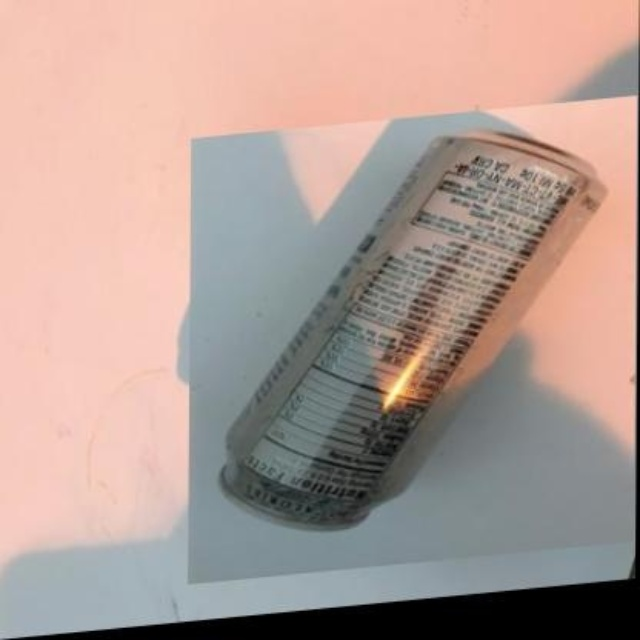trash: (220, 131, 605, 526)
